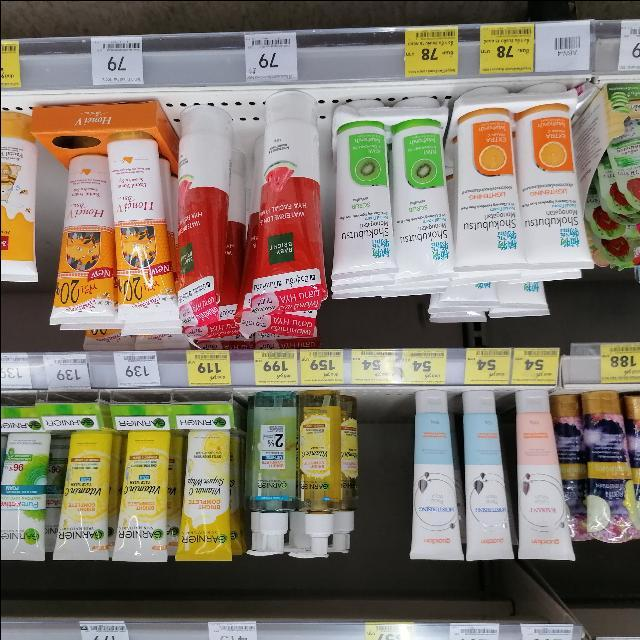Squeeze Tube: (3, 105, 640, 570), (105, 139, 181, 332), (251, 88, 321, 294), (510, 93, 591, 264), (159, 110, 230, 305), (451, 102, 530, 272), (45, 156, 124, 320), (330, 100, 397, 288), (405, 386, 472, 558), (387, 106, 454, 275), (43, 423, 118, 561), (463, 386, 521, 556), (519, 391, 573, 561), (108, 421, 172, 559), (172, 412, 232, 556)
